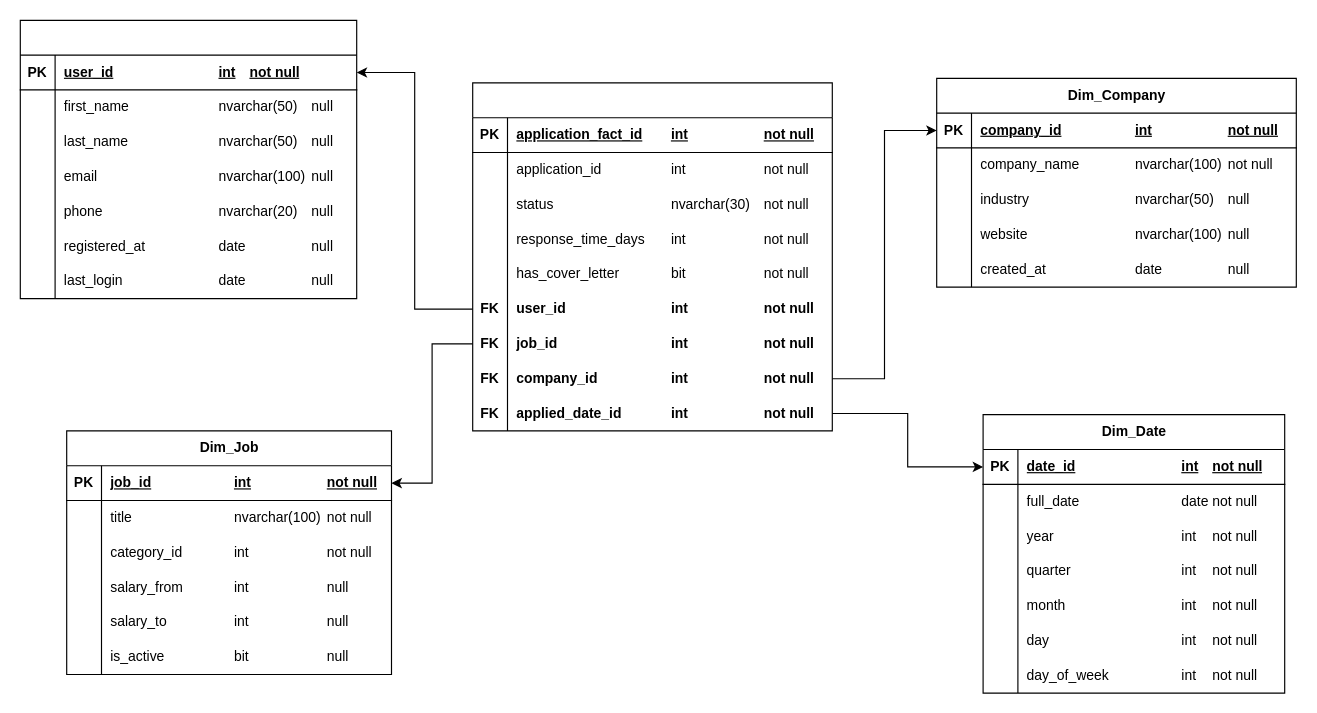
This 1317x713 diagram has some shape labels left out. Each missing label, with the box of its shape:
Dim_User: (19, 19, 357, 299)
Fact_Applications: (472, 82, 832, 431)
